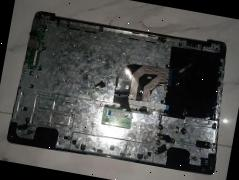electronic: (6, 8, 238, 180)
